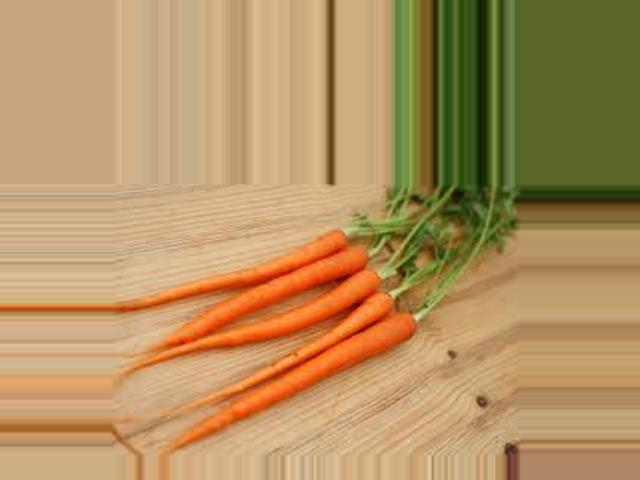carrot: (120, 223, 344, 313)
